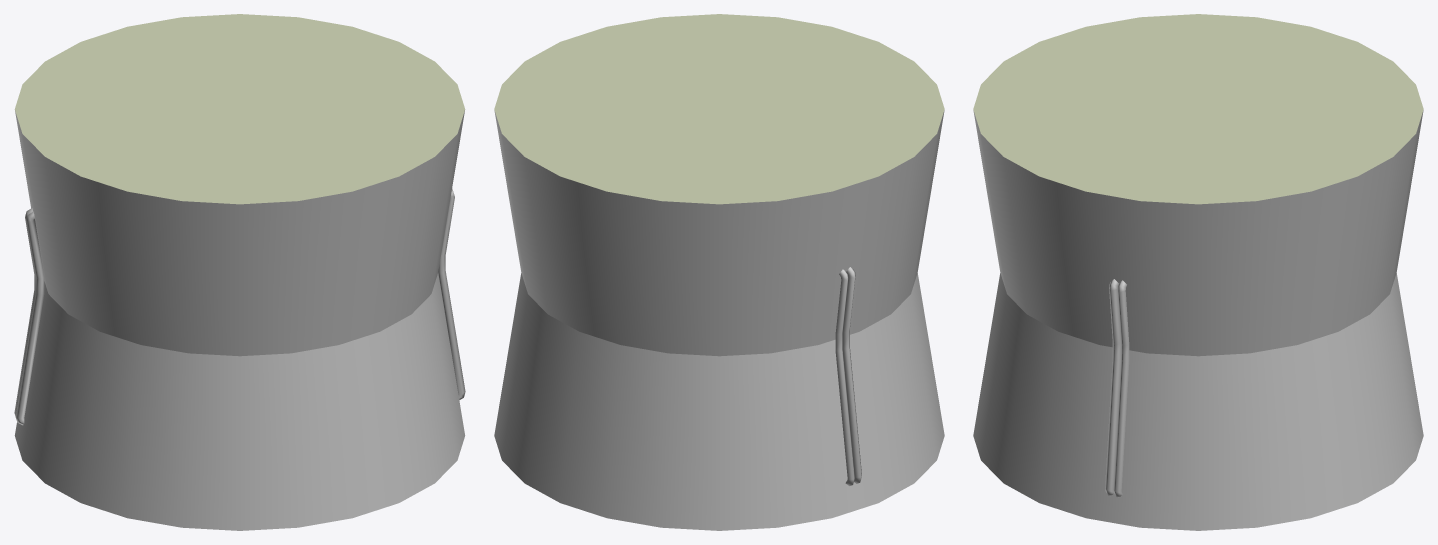
File: delphini_us_fuel_tank_s1_1.obj
3 views of the same model, side by side, from view 1: azimuth 30°, elevation 25°; view 2: azimuth 150°, elevation 25°; view 3: azimuth 270°, elevation 25° (orthographic).
Visible parts, largest first — view 1: delphini_us_fuel_tank_s1_1_delphini_us_fuel_tank_s1_1_auv, delphini_us_fuel_tank_s1_1_default; view 2: delphini_us_fuel_tank_s1_1_delphini_us_fuel_tank_s1_1_auv, delphini_us_fuel_tank_s1_1_default; view 3: delphini_us_fuel_tank_s1_1_delphini_us_fuel_tank_s1_1_auv, delphini_us_fuel_tank_s1_1_default.
Part boxes in pixels (bbox=[...]): delphini_us_fuel_tank_s1_1_delphini_us_fuel_tank_s1_1_auv: bbox=[14, 110, 465, 530]; delphini_us_fuel_tank_s1_1_default: bbox=[15, 14, 464, 204]; delphini_us_fuel_tank_s1_1_delphini_us_fuel_tank_s1_1_auv: bbox=[494, 110, 944, 530]; delphini_us_fuel_tank_s1_1_default: bbox=[494, 14, 944, 204]; delphini_us_fuel_tank_s1_1_delphini_us_fuel_tank_s1_1_auv: bbox=[973, 110, 1423, 530]; delphini_us_fuel_tank_s1_1_default: bbox=[973, 14, 1423, 204].
Size of the model in its own units: 1.25 by 1 by 1.25.
